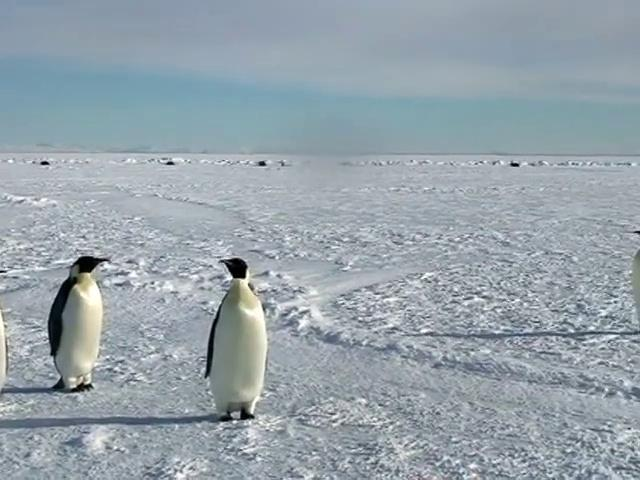animal: (206, 259, 269, 420)
